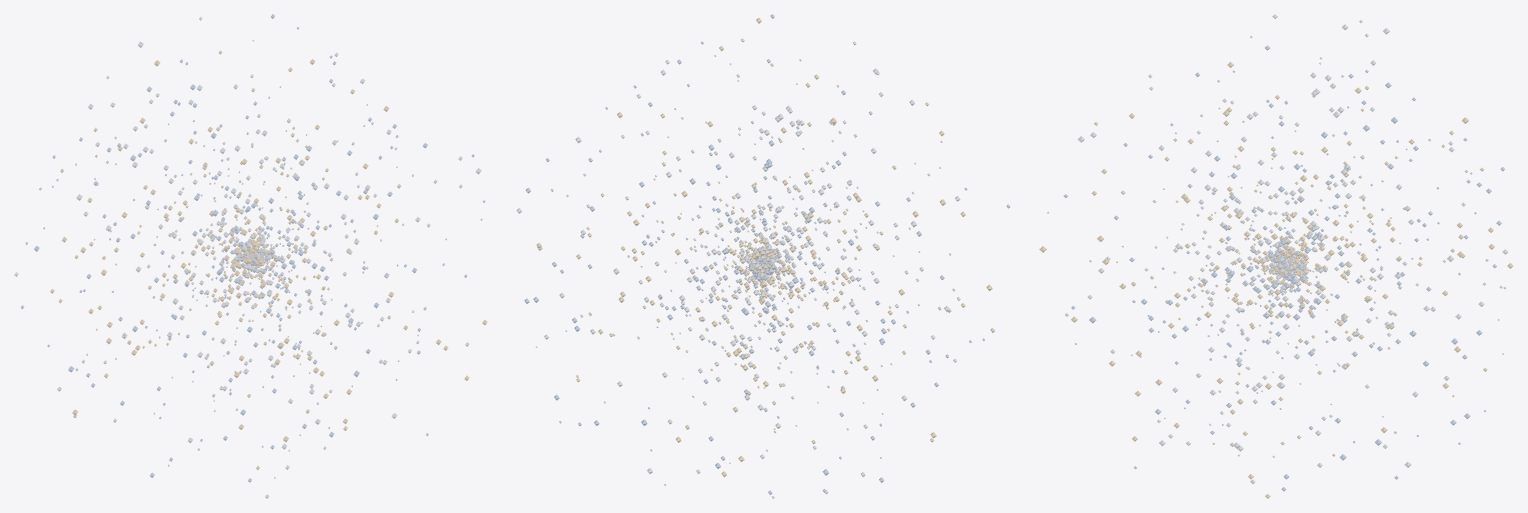
The picture shows the model from 3 angles, left to right: view 1: azimuth 30°, elevation 25°; view 2: azimuth 150°, elevation 25°; view 3: azimuth 270°, elevation 25°; orthographic projection. The views are drawn at different scales.
Size of the model in its own units: 5.02 by 5.05 by 4.79.
